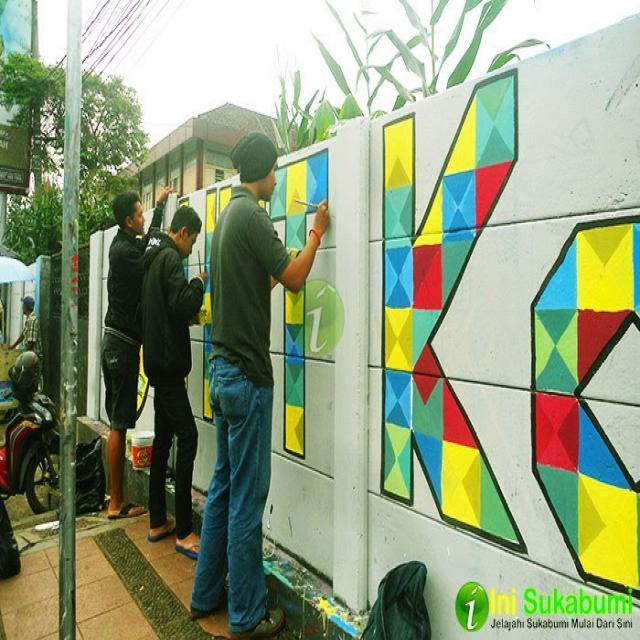-: (381, 64, 528, 554), (529, 212, 640, 600), (266, 146, 330, 464), (452, 578, 636, 636), (202, 186, 237, 428)
